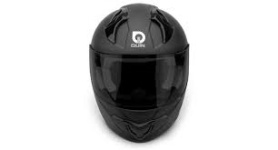Helmet: (87, 2, 196, 146)
